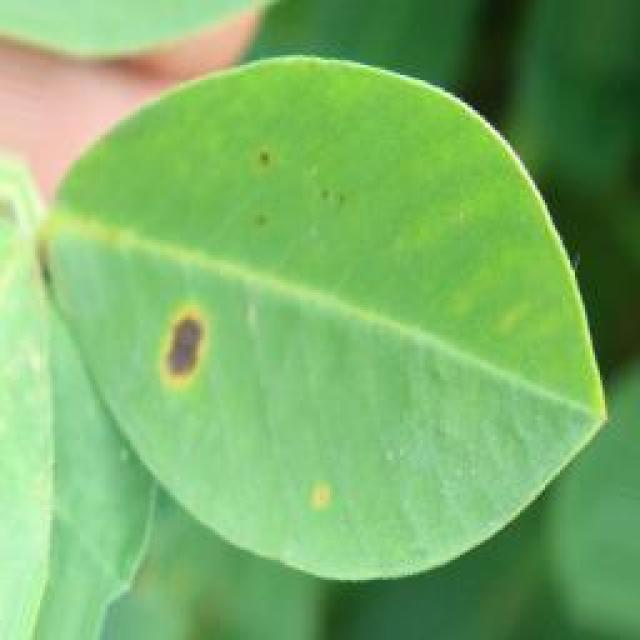Early_leaf_spot: (243, 118, 365, 270), (148, 299, 234, 444), (293, 461, 360, 556)
